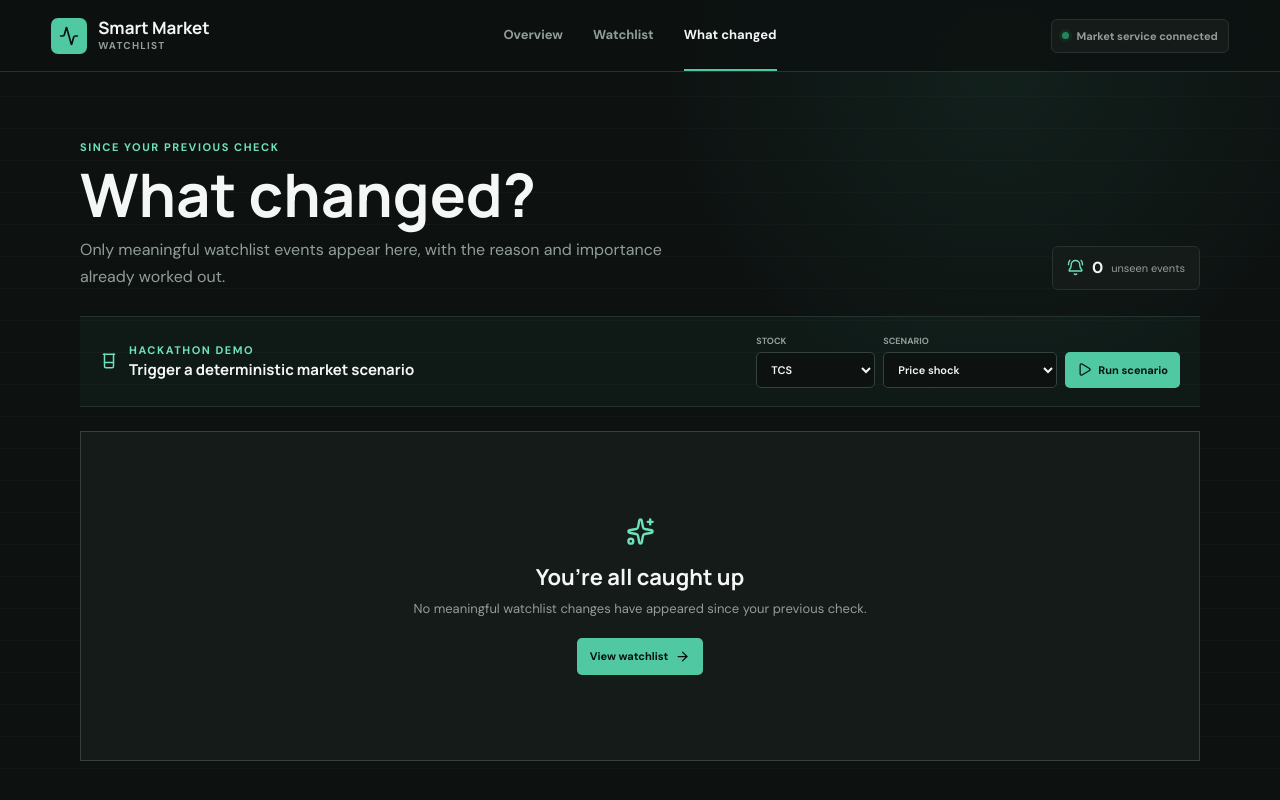
Scenario: App foundation › runs a deterministic scenario and refreshes the meaningful change feed
Click the button "Run scenario".
click(1123, 370)  # box [1065,352,1180,388]
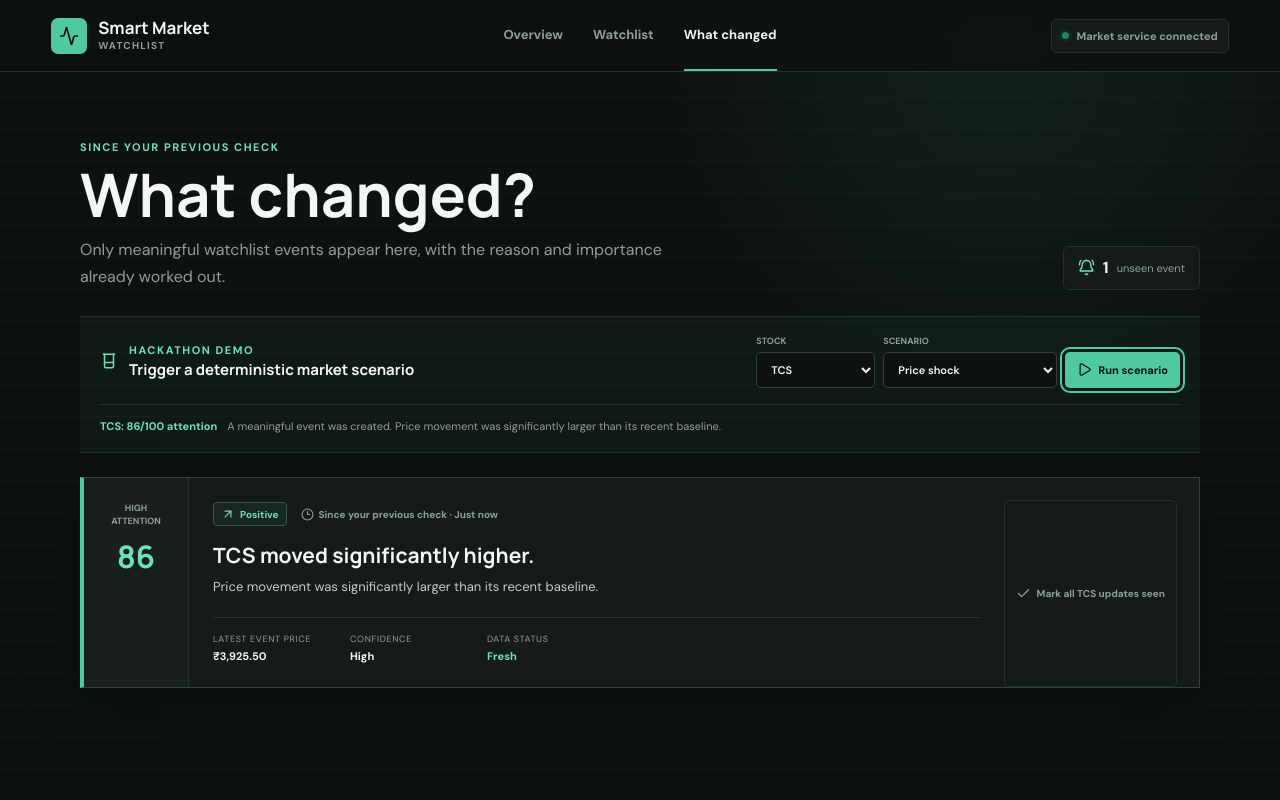
Expected: the text "TCS: 86/100 attention" is shown, [100,418,217,434]
Expected: the text "A meaningful event was created" is shown, [227,419,392,433]
Expected: the heading "TCS moved significantly higher." is shown, [213,542,534,570]
